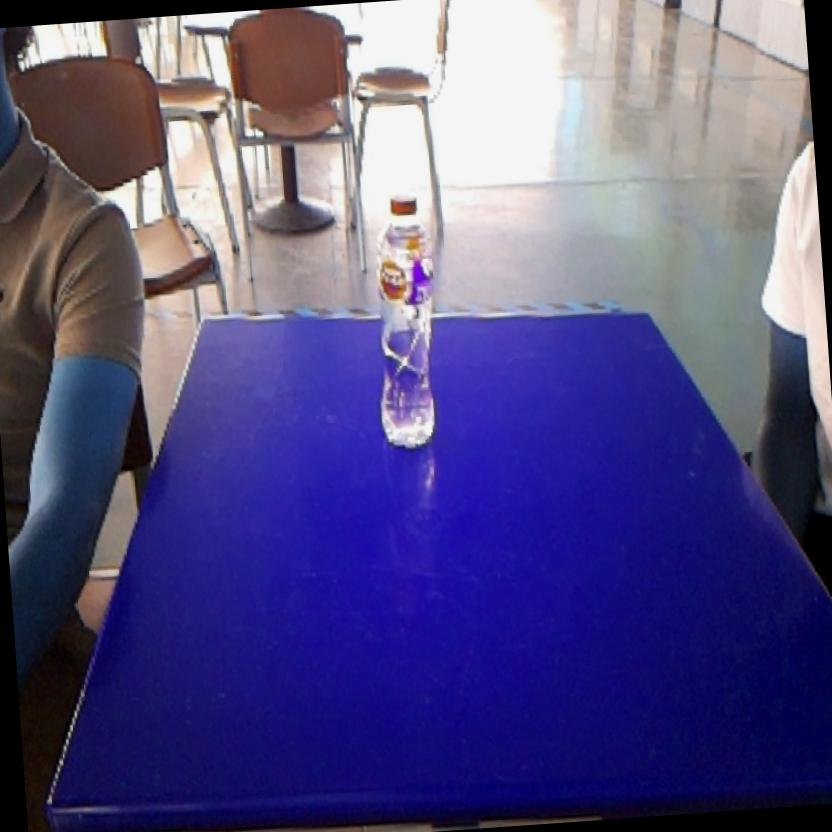good: (360, 184, 456, 463)
